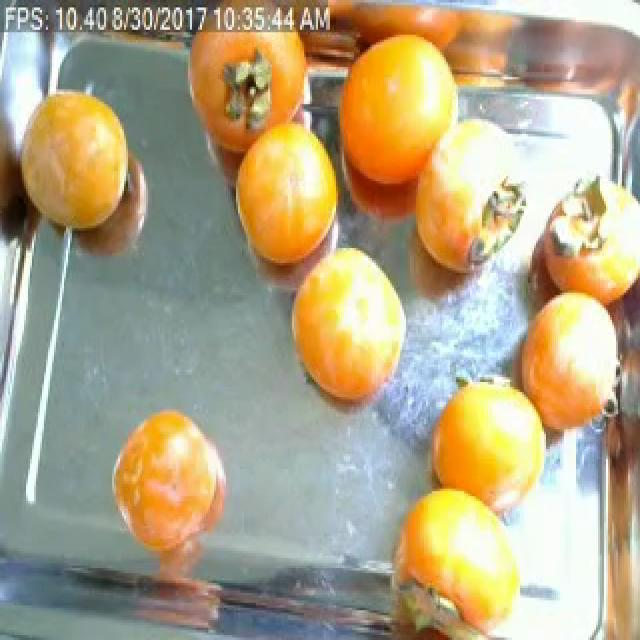Fruit: (270, 223, 430, 434), (6, 72, 160, 253), (98, 394, 242, 586), (416, 357, 560, 526)
